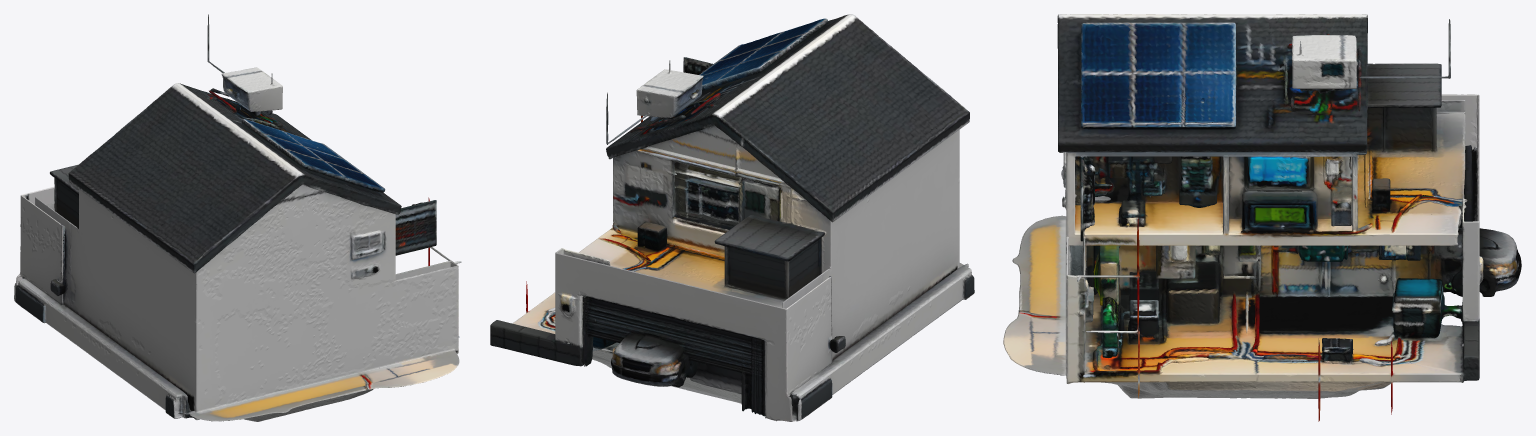
The model's file is project-model-compressed.glb.
The picture shows the model from 3 angles, left to right: view 1: azimuth 30°, elevation 25°; view 2: azimuth 150°, elevation 25°; view 3: azimuth 270°, elevation 25°; orthographic projection. The views are drawn at different scales.
Visible parts, largest first — view 1: tripo_node_5801ece2-0cca-4def-baad-e7899d4363aa; view 2: tripo_node_5801ece2-0cca-4def-baad-e7899d4363aa; view 3: tripo_node_5801ece2-0cca-4def-baad-e7899d4363aa.
Boxes of the visible parts, x1=… form: tripo_node_5801ece2-0cca-4def-baad-e7899d4363aa: x1=14, y1=14, x2=461, y2=421; tripo_node_5801ece2-0cca-4def-baad-e7899d4363aa: x1=490, y1=14, x2=974, y2=421; tripo_node_5801ece2-0cca-4def-baad-e7899d4363aa: x1=1003, y1=14, x2=1521, y2=421.
Bounding box in the file's own units: 0.7947 × 0.8192 × 0.9999.
Materials: 1 (1 with a texture image).
